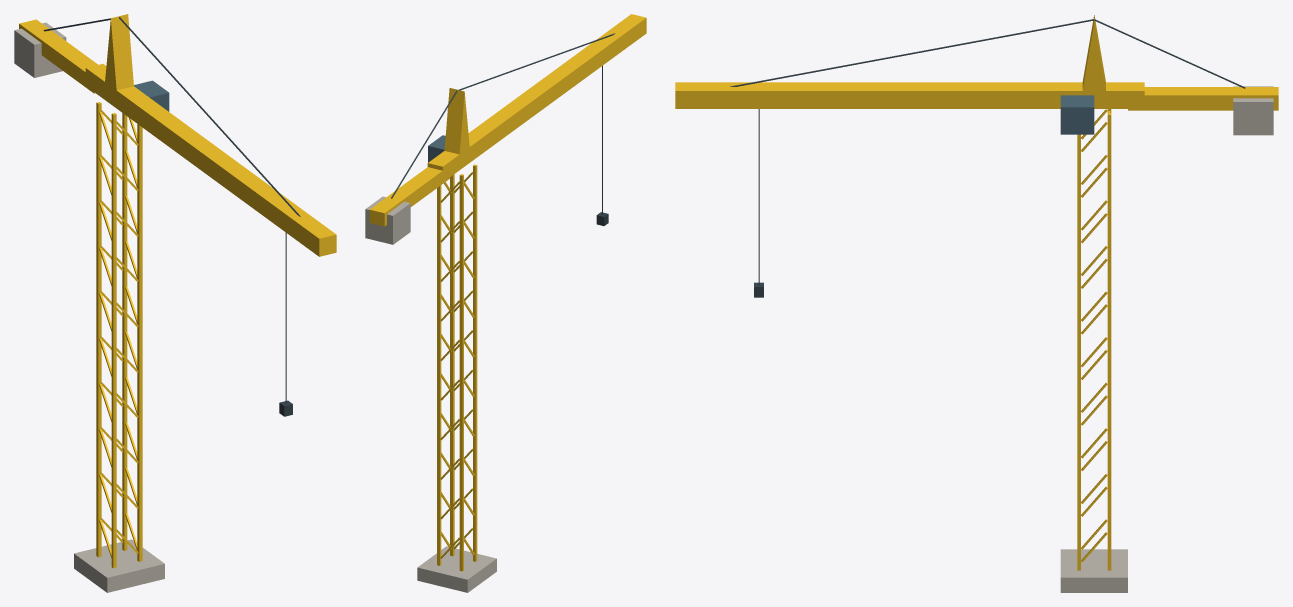
Rendered from town_crane.glb.
3 renders of one model, left to right at view 1: azimuth 30°, elevation 25°; view 2: azimuth 150°, elevation 25°; view 3: azimuth 270°, elevation 25°, orthographic. The views are drawn at different scales.
Visible parts, largest first — view 1: TownCrane_mast, Jib; view 2: TownCrane_mast, Jib; view 3: Jib, TownCrane_mast.
Part boxes in pixels (x1,y1,x2,y2): TownCrane_mast: (74, 102, 164, 592); Jib: (14, 14, 336, 416); TownCrane_mast: (417, 164, 496, 592); Jib: (365, 14, 646, 244); Jib: (675, 15, 1278, 297); TownCrane_mast: (1060, 109, 1127, 592).
Bounding box in the file's own units: 4.3 × 36.9 × 36.
